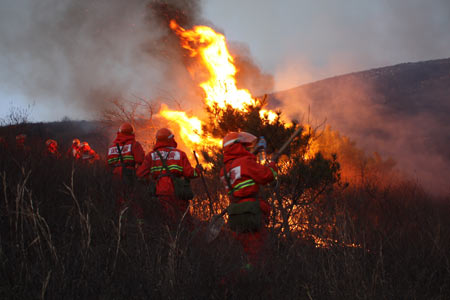fire: (75, 1, 326, 123), (270, 195, 378, 250), (268, 125, 366, 156), (323, 156, 384, 194), (176, 128, 223, 147), (279, 156, 321, 175), (189, 199, 225, 220), (280, 178, 322, 194), (191, 181, 225, 198), (87, 124, 115, 142), (154, 123, 218, 129), (187, 147, 221, 158), (192, 159, 221, 167)
